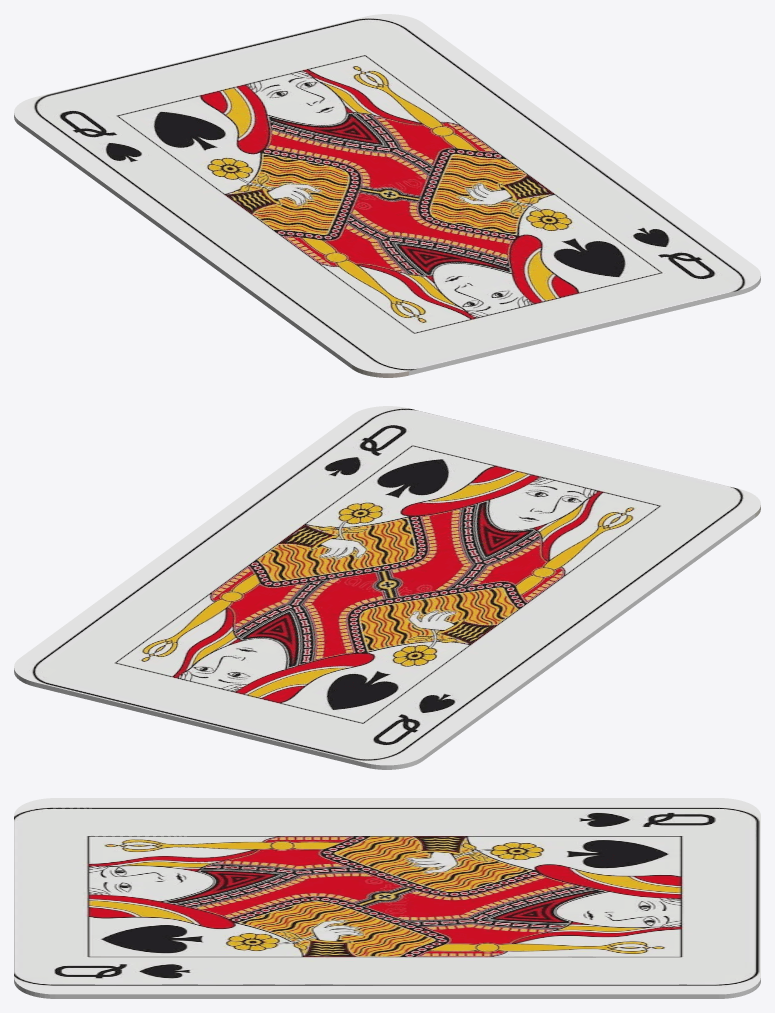
Rendered from queen of spades.fbx.
3 renders of one model, top to bottom at view 1: azimuth 30°, elevation 25°; view 2: azimuth 150°, elevation 25°; view 3: azimuth 270°, elevation 25°, orthographic.
Parts seen in each view (by area): view 1: Cube; view 2: Cube; view 3: Cube.
Boxes of the visible parts, x1,y1,x2,y2 form: Cube: [14, 14, 760, 377]; Cube: [14, 406, 760, 769]; Cube: [14, 798, 760, 998].
Bounding box in the file's own units: 5.6 × 0.06 × 9.
3 materials, 2 textured.
